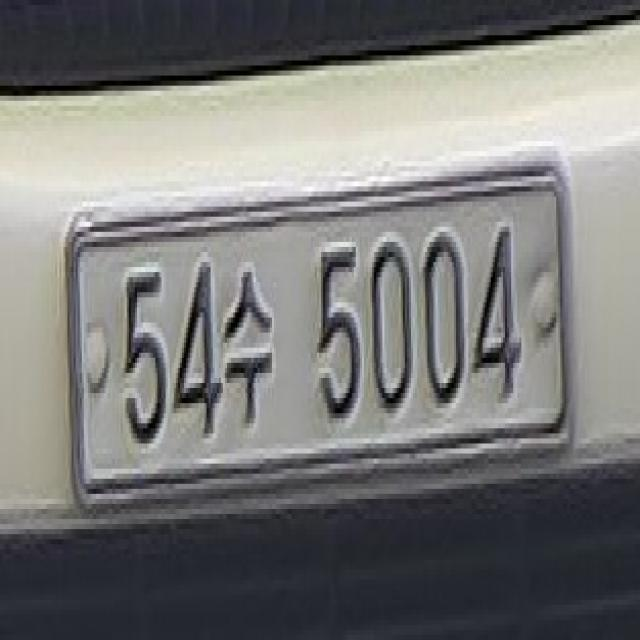0: (422, 217, 471, 433), (370, 222, 411, 418)
4: (472, 192, 528, 408), (172, 252, 223, 443)
5: (125, 237, 172, 443), (319, 217, 364, 428)
license_plate: (61, 171, 577, 514)
su: (215, 247, 280, 438)
